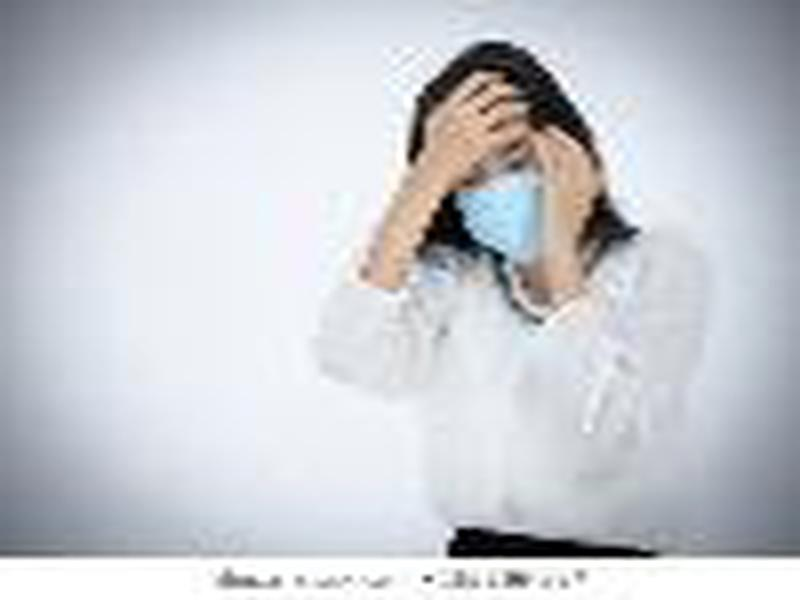with_mask: (445, 65, 591, 265)
